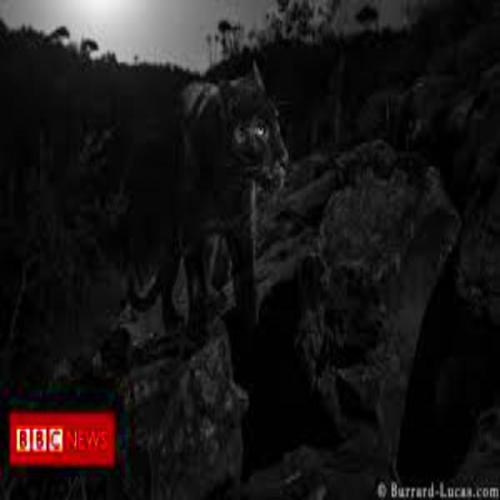panther-endangered: (123, 74, 289, 325)
